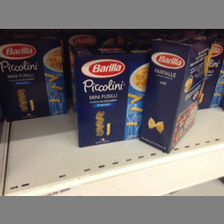pasta: (139, 34, 216, 152), (67, 43, 151, 148), (1, 33, 68, 121)
